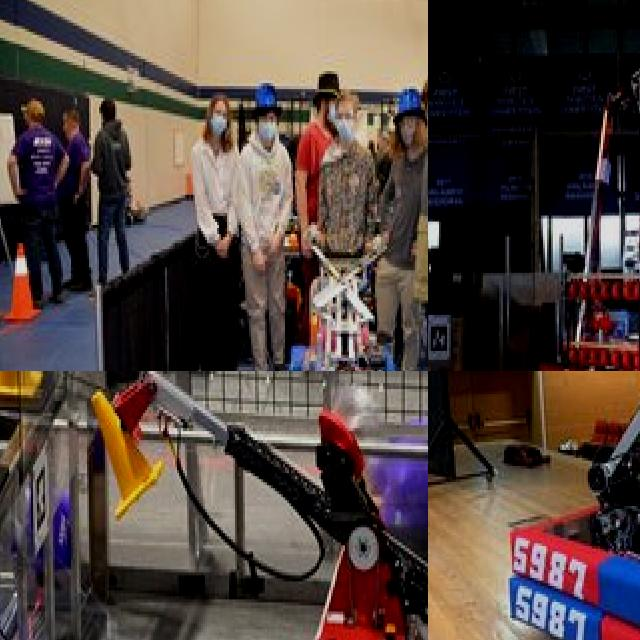FRC-Robots: (75, 371, 428, 640), (495, 371, 640, 640), (534, 34, 640, 371), (258, 232, 427, 371)
